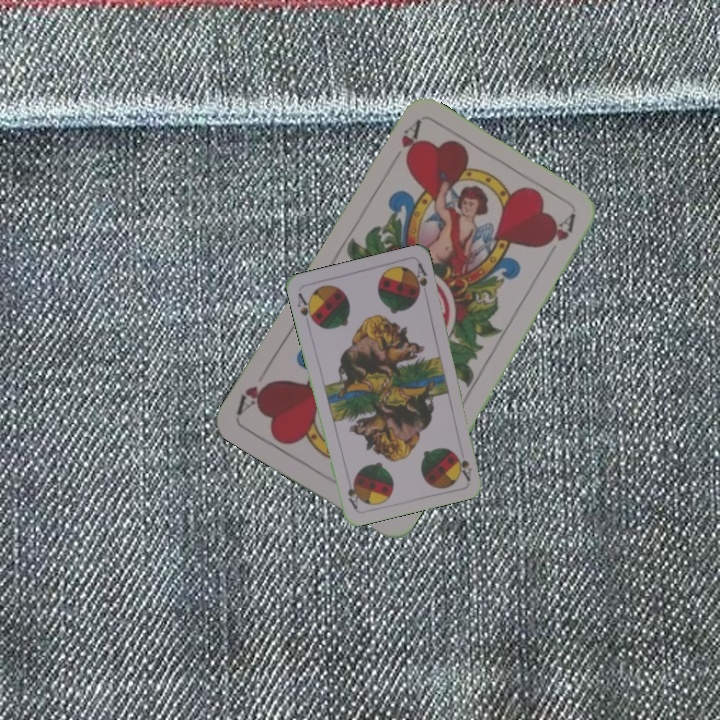HA: (397, 117, 424, 166)
SA: (293, 289, 318, 328), (455, 453, 474, 483)
